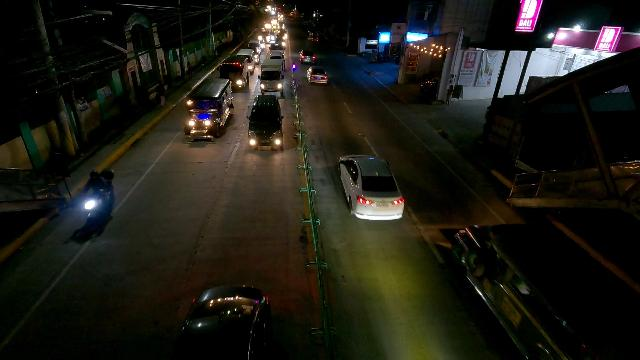car: (172, 284, 273, 360), (338, 152, 406, 226), (246, 94, 284, 151), (306, 66, 328, 87), (267, 50, 285, 72), (300, 50, 316, 64)
jeepney: (182, 77, 233, 143), (309, 31, 320, 42)
motorcycle: (75, 167, 116, 235)
van: (259, 59, 286, 97), (236, 48, 256, 74)
